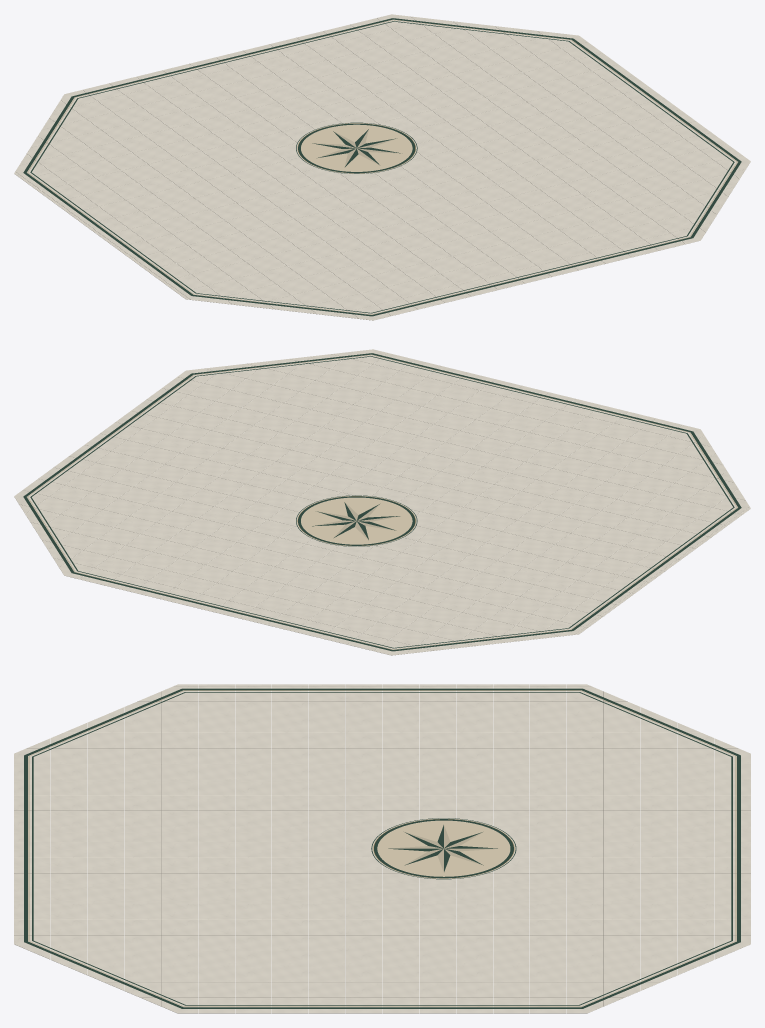
File: hotel-grand-floor.glb
3 views of the same model, one above another, from view 1: azimuth 30°, elevation 25°; view 2: azimuth 150°, elevation 25°; view 3: azimuth 270°, elevation 25° (orthographic). The views are drawn at different scales.
Parts seen in each view (by area): view 1: hotel-grand-floor / Hotel marble slab 2, hotel-grand-floor / Hotel marble slab 1, hotel-grand-floor / Hotel marble slab 0, hotel-grand-floor / Hotel forest enamel, hotel-grand-floor / Hotel carved ivory, hotel-grand-floor / Hotel satin champagne brass, hotel-grand-floor / Hotel honed limestone; view 2: hotel-grand-floor / Hotel marble slab 2, hotel-grand-floor / Hotel marble slab 1, hotel-grand-floor / Hotel marble slab 0, hotel-grand-floor / Hotel forest enamel, hotel-grand-floor / Hotel carved ivory, hotel-grand-floor / Hotel satin champagne brass, hotel-grand-floor / Hotel honed limestone; view 3: hotel-grand-floor / Hotel marble slab 2, hotel-grand-floor / Hotel marble slab 1, hotel-grand-floor / Hotel marble slab 0, hotel-grand-floor / Hotel forest enamel, hotel-grand-floor / Hotel carved ivory, hotel-grand-floor / Hotel satin champagne brass, hotel-grand-floor / Hotel honed limestone.
Part boxes in pixels (x1=…): hotel-grand-floor / Hotel marble slab 2: x1=19, y1=18, x2=741, y2=320; hotel-grand-floor / Hotel marble slab 1: x1=14, y1=14, x2=745, y2=315; hotel-grand-floor / Hotel marble slab 0: x1=15, y1=16, x2=750, y2=318; hotel-grand-floor / Hotel forest enamel: x1=23, y1=18, x2=741, y2=316; hotel-grand-floor / Hotel carved ivory: x1=301, y1=124, x2=412, y2=171; hotel-grand-floor / Hotel satin champagne brass: x1=27, y1=20, x2=737, y2=314; hotel-grand-floor / Hotel honed limestone: x1=314, y1=129, x2=401, y2=167; hotel-grand-floor / Hotel marble slab 2: x1=23, y1=349, x2=749, y2=653; hotel-grand-floor / Hotel marble slab 1: x1=14, y1=351, x2=738, y2=655; hotel-grand-floor / Hotel marble slab 0: x1=19, y1=353, x2=750, y2=650; hotel-grand-floor / Hotel forest enamel: x1=23, y1=353, x2=741, y2=651; hotel-grand-floor / Hotel carved ivory: x1=301, y1=497, x2=412, y2=544; hotel-grand-floor / Hotel satin champagne brass: x1=27, y1=355, x2=737, y2=649; hotel-grand-floor / Hotel honed limestone: x1=311, y1=502, x2=400, y2=539; hotel-grand-floor / Hotel marble slab 2: x1=14, y1=684, x2=750, y2=1013; hotel-grand-floor / Hotel marble slab 1: x1=14, y1=684, x2=750, y2=1013; hotel-grand-floor / Hotel marble slab 0: x1=14, y1=684, x2=750, y2=1013; hotel-grand-floor / Hotel forest enamel: x1=24, y1=688, x2=740, y2=1008; hotel-grand-floor / Hotel carved ivory: x1=377, y1=820, x2=510, y2=876; hotel-grand-floor / Hotel satin champagne brass: x1=28, y1=690, x2=736, y2=1006; hotel-grand-floor / Hotel honed limestone: x1=390, y1=825, x2=498, y2=872.
Bounding box in the file's own units: 37.99 × 0.024 × 35.99.
7 materials, 3 textured.
